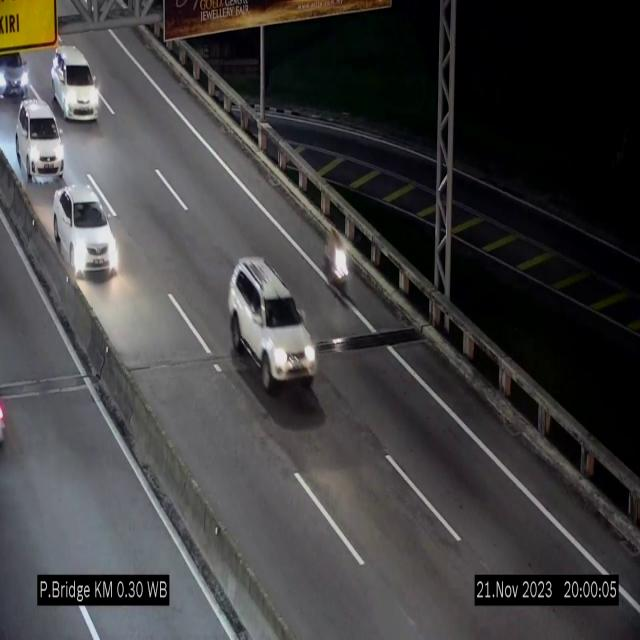Car: (229, 258, 317, 388), (54, 183, 118, 276), (13, 96, 68, 184), (51, 48, 100, 120), (1, 38, 44, 103)
Motorcycle: (324, 226, 348, 302)
